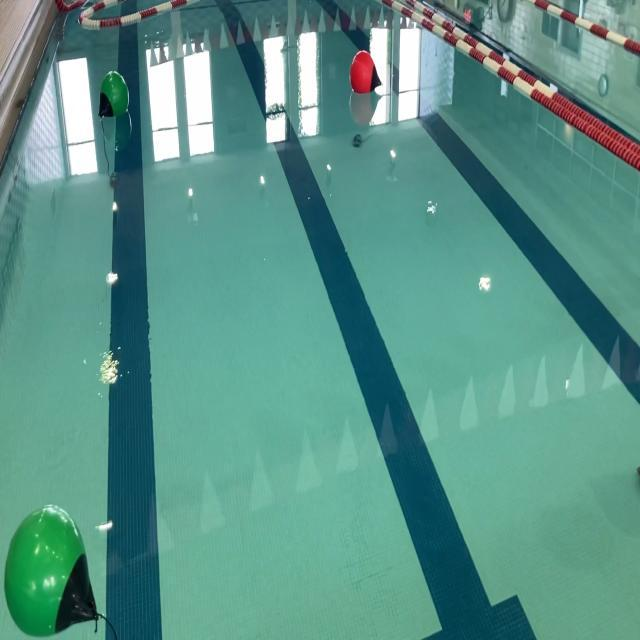buoy: (4, 502, 100, 638), (98, 70, 130, 119), (350, 50, 382, 94)
